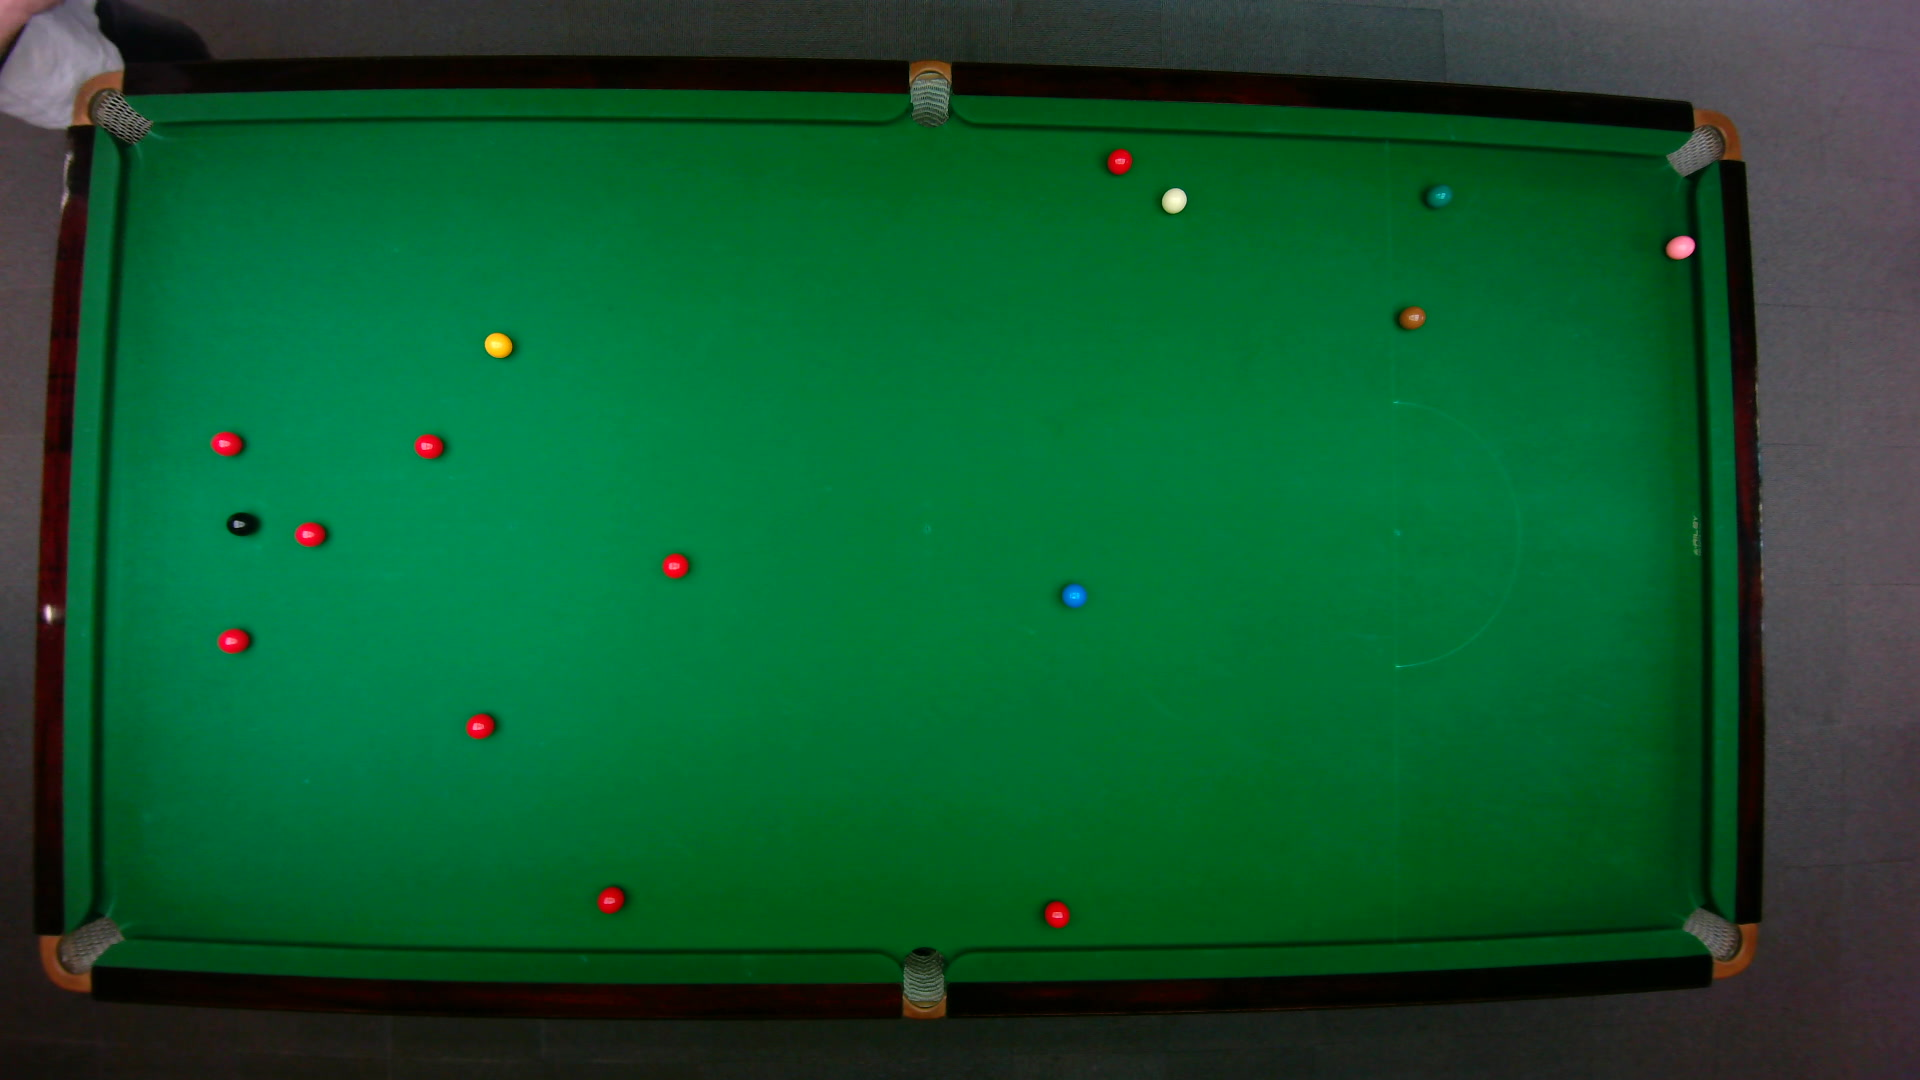bag: (36, 913, 125, 992), (71, 70, 154, 145), (1679, 905, 1756, 978), (1663, 107, 1741, 177), (901, 944, 944, 1021), (909, 57, 949, 128)
black: (223, 509, 257, 535)
blue: (1059, 582, 1087, 608)
brown: (1396, 305, 1427, 330)
green: (1423, 182, 1453, 208)
pink: (1663, 232, 1697, 260)
red: (214, 625, 251, 653), (291, 520, 327, 547), (208, 429, 244, 456), (595, 884, 625, 914), (463, 711, 496, 738), (411, 433, 444, 459), (1043, 899, 1071, 928), (659, 551, 688, 579), (1105, 146, 1133, 175)
white: (1158, 185, 1188, 215)
yellow: (481, 328, 514, 357)
zone: (1391, 400, 1520, 669)
